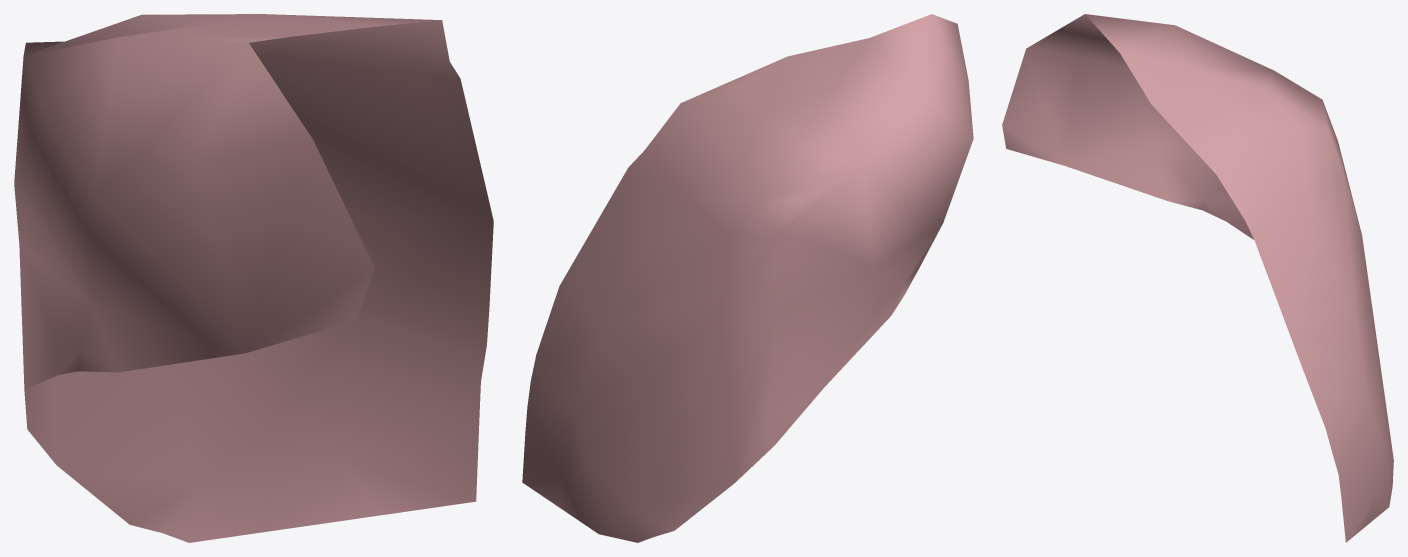
3 views of the same model, side by side, from view 1: azimuth 30°, elevation 25°; view 2: azimuth 150°, elevation 25°; view 3: azimuth 270°, elevation 25° (orthographic). The views are drawn at different scales.
Visible parts, largest first — view 1: ZA_1cb74552d7c71a99; view 2: ZA_1cb74552d7c71a99; view 3: ZA_1cb74552d7c71a99.
Part boxes in pixels (left/top/right/bottom): ZA_1cb74552d7c71a99: left=14, top=14, right=493, bottom=542; ZA_1cb74552d7c71a99: left=522, top=14, right=973, bottom=542; ZA_1cb74552d7c71a99: left=1002, top=14, right=1393, bottom=542.
Size of the model in its own units: 0.0095 by 0.012 by 0.0102.
